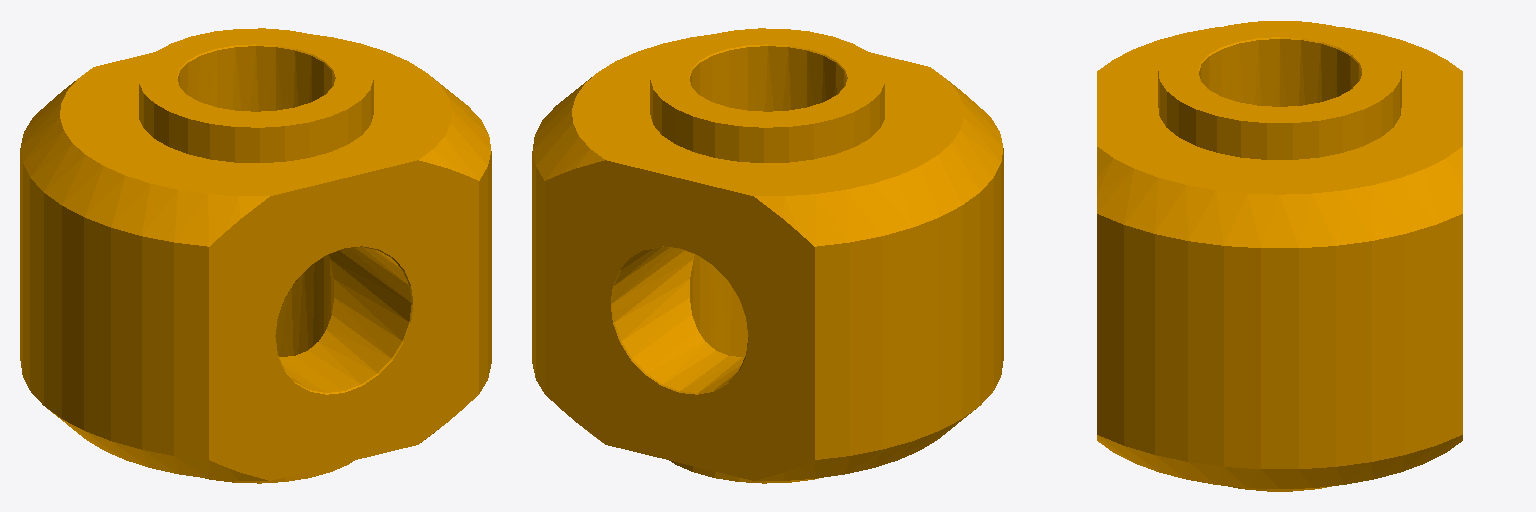
URDF robot description (00296_plug):
<?xml version="1.0"?>
<robot name="00296_plug">
	<link name="00296_plug">
		<visual>
			<geometry>
				<mesh filename="../mesh/00296/asset_plug.obj"/>
			</geometry>
		</visual>
		<collision>
			<geometry>
				<mesh filename="../mesh/00296/asset_plug.obj"/>
			</geometry>
			<sdf resolution="256"/>
		</collision>
	</link>
</robot>

--- Facts derived from the render (not from the file) ---
Views: 3 orthographic renders of the robot side by side, from view 1: azimuth 30°, elevation 25°; view 2: azimuth 150°, elevation 25°; view 3: azimuth 270°, elevation 25°.
Model 00296_plug with 1 links and 0 joints (none), rooted at 00296_plug, posed all joints at 0.
Links seen in each view (by area): view 1: 00296_plug; view 2: 00296_plug; view 3: 00296_plug.
Boxes of the visible links, <box> form: 00296_plug: <box>20,28,491,483</box>; 00296_plug: <box>532,28,1003,483</box>; 00296_plug: <box>1097,21,1462,491</box>.
Size in the robot's own frame: 0.0475 by 0.0358 by 0.0397 metres.
1 mesh visuals loaded from 1 distinct referenced files (1 OBJ).
